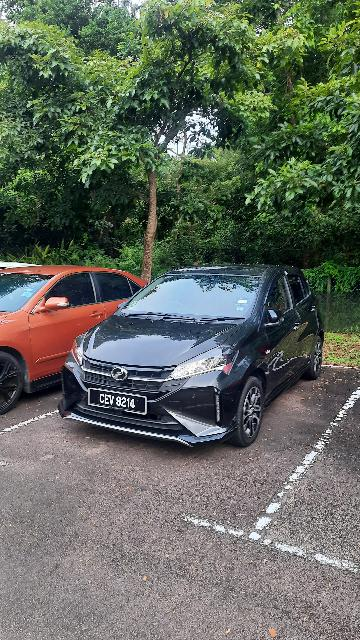License_Plate: (87, 390, 151, 419)
car: (62, 265, 328, 453), (3, 263, 154, 411)
